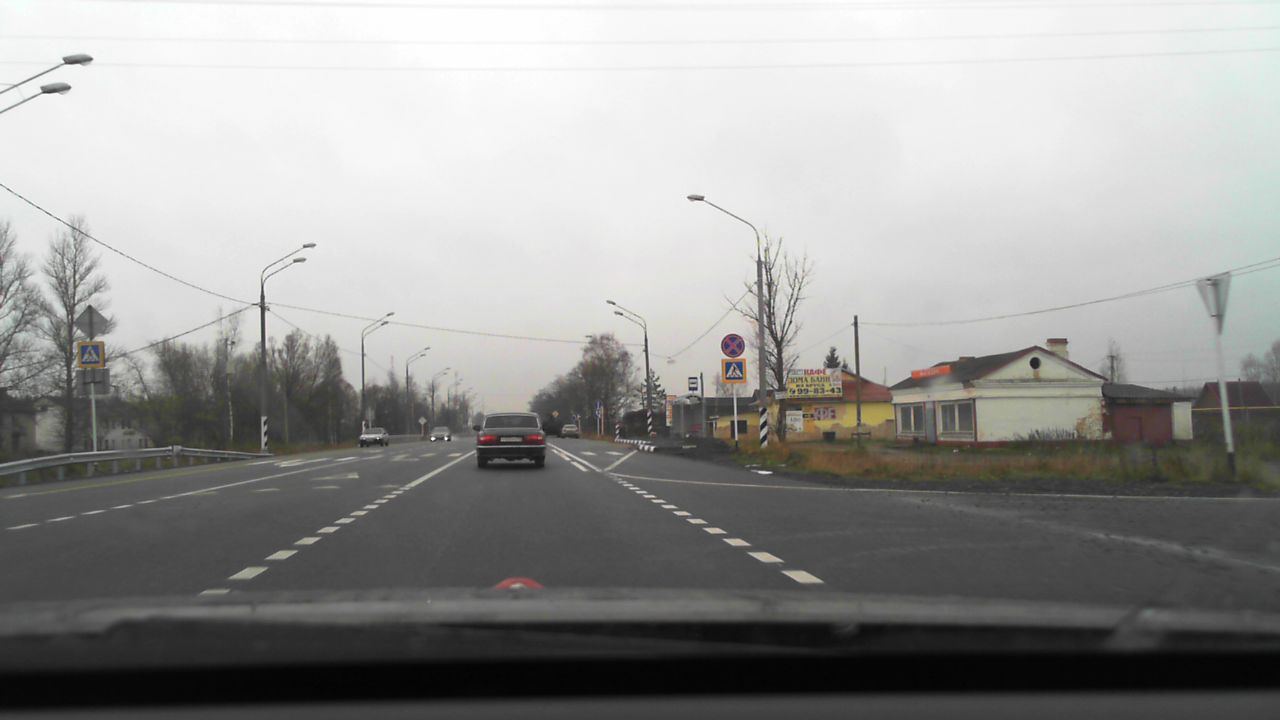No Parking: (720, 333, 745, 357)
